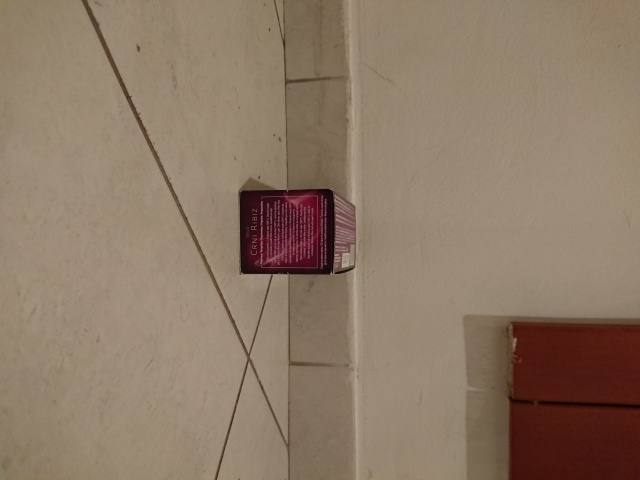Franck Black Currant Tea 60g: (236, 186, 360, 278)
